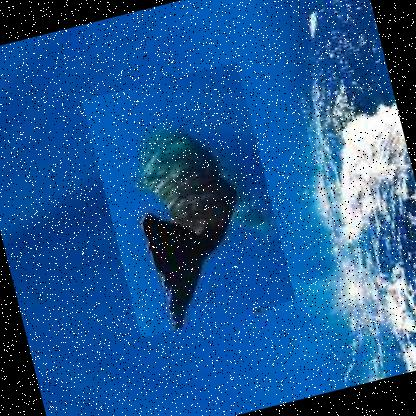sperm_whale: (80, 61, 295, 338)
